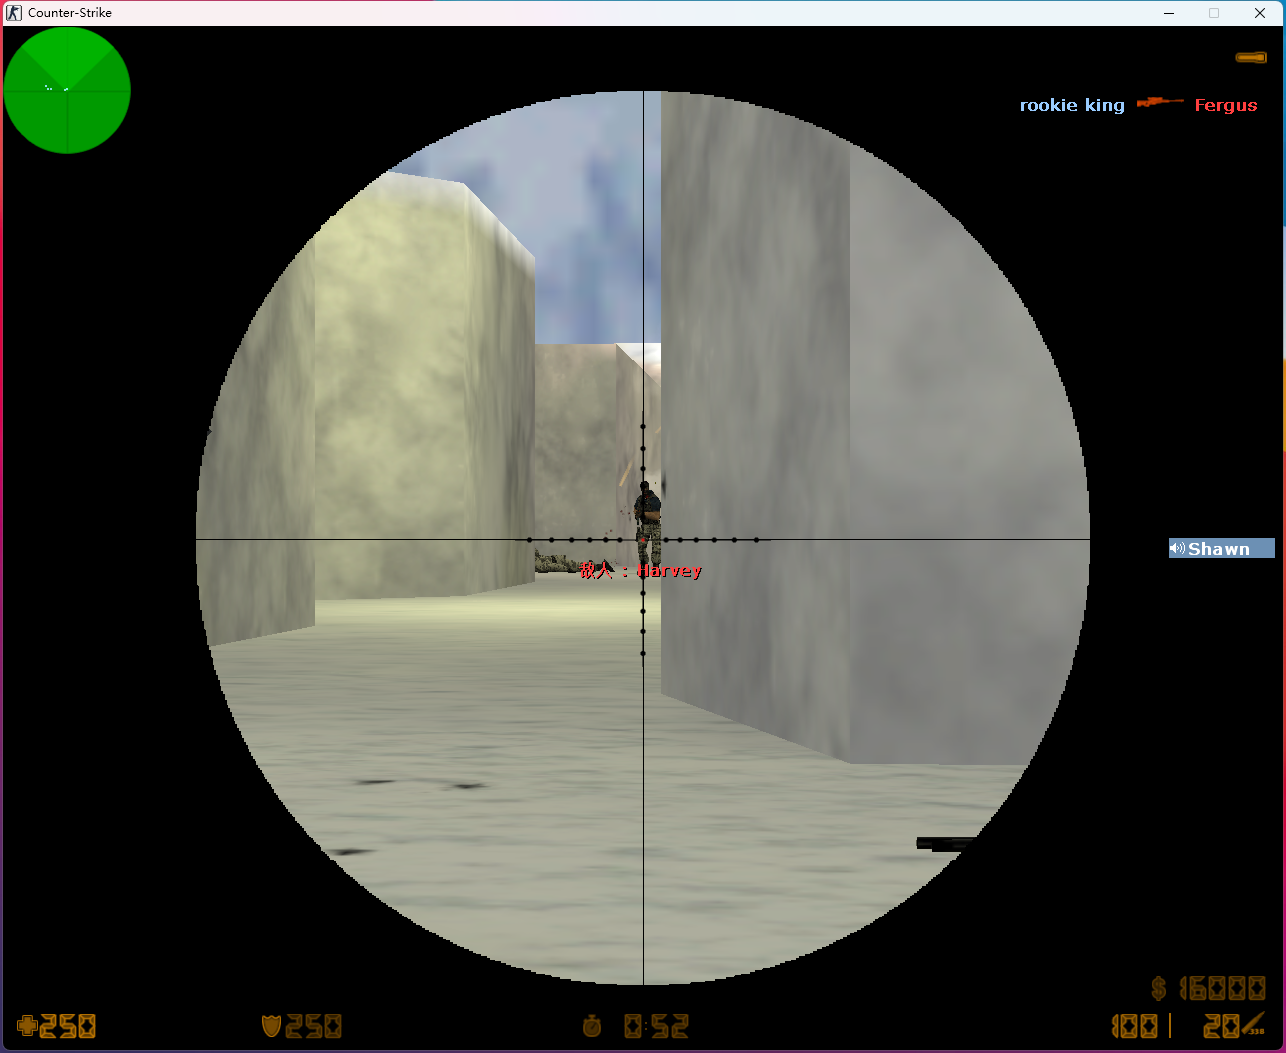T: (631, 481, 663, 578)
dead: (533, 547, 615, 576)
